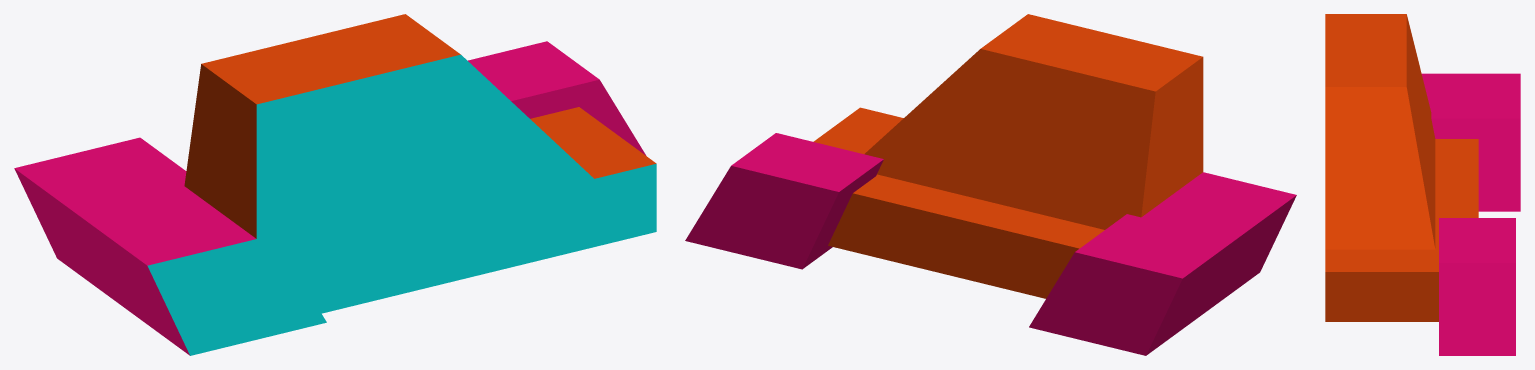
The model's file is half car (2).fbx.
3 views of the same model, side by side, from view 1: azimuth 30°, elevation 25°; view 2: azimuth 150°, elevation 25°; view 3: azimuth 270°, elevation 25° (orthographic). The views are drawn at different scales.
Visible parts, largest first — view 1: Cube.003; view 2: Cube.003; view 3: Cube.003.
Part boxes in pixels (box(x1,y1,x2,y2)): Cube.003: box(14, 14, 656, 355); Cube.003: box(685, 14, 1296, 355); Cube.003: box(1325, 14, 1520, 355).
Bounding box in the file's own units: 779 × 300 × 308.
